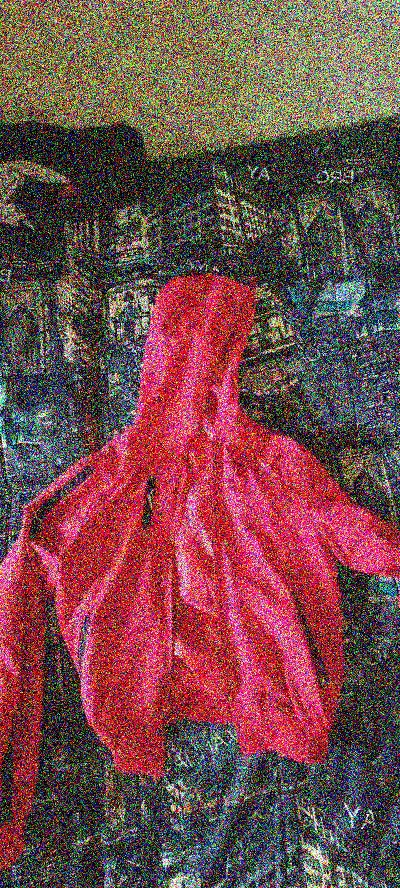Hoodie: (0, 226, 397, 851)
